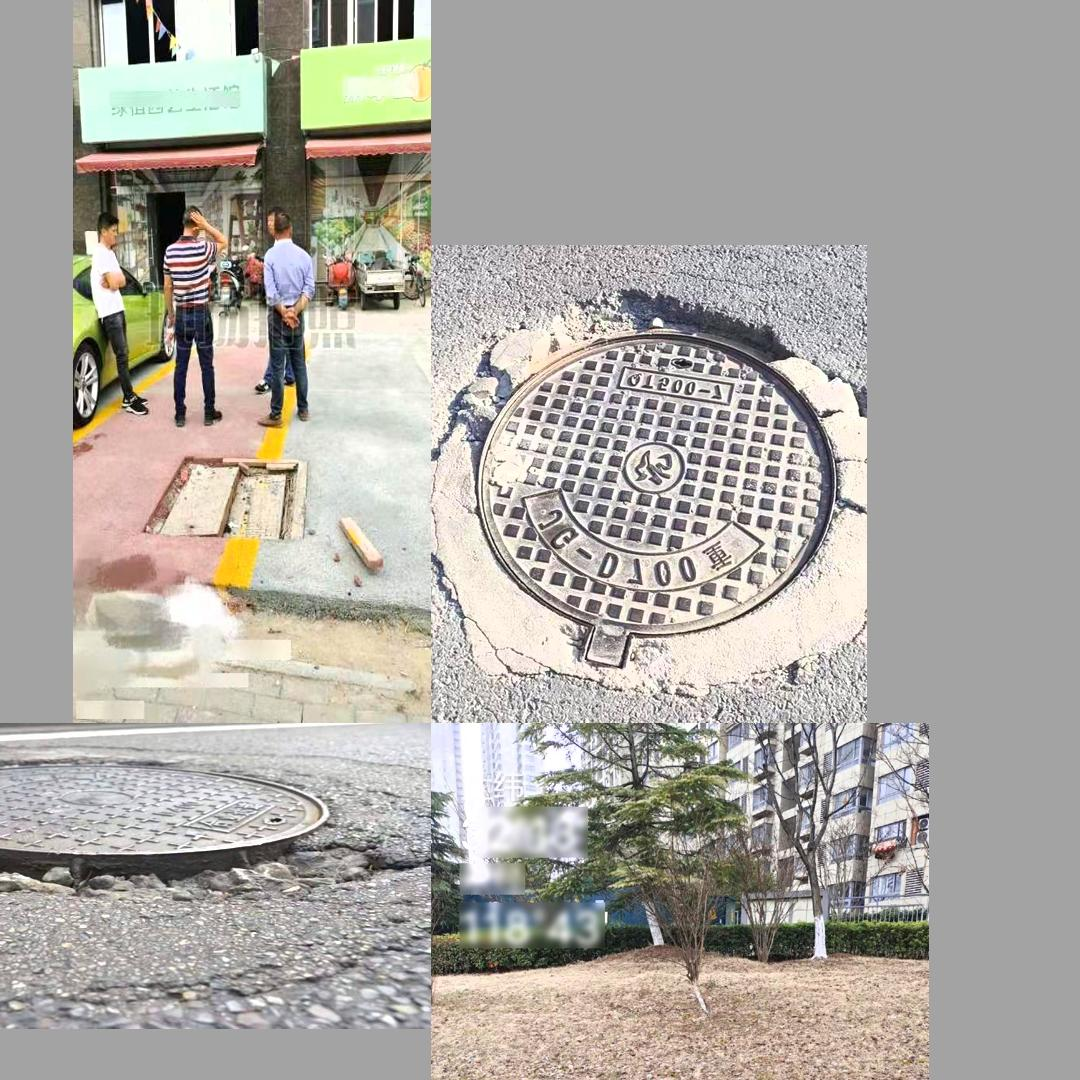circle: (445, 301, 853, 686), (0, 746, 421, 932), (149, 457, 307, 544)
